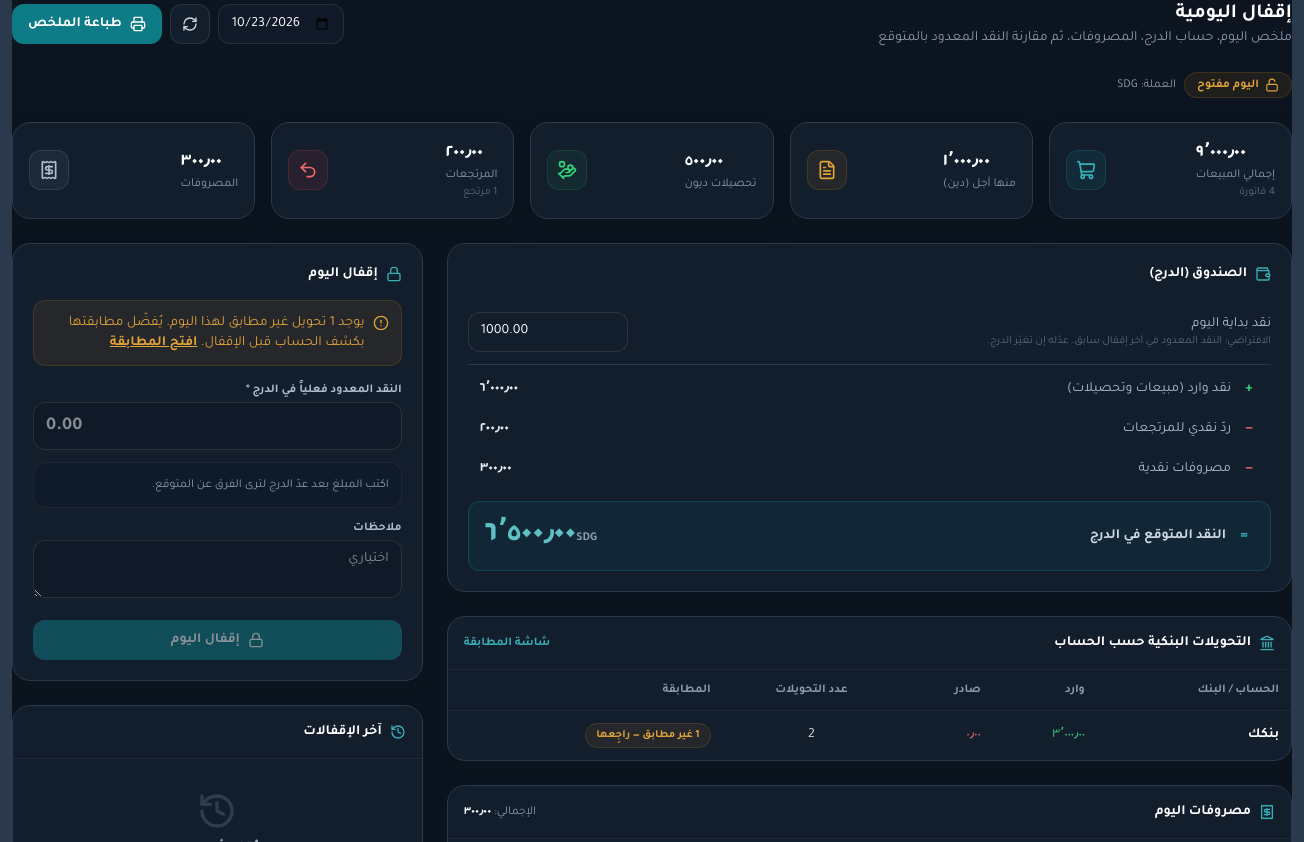
Test case: صفحة إقفال اليومية › المدخل غير الصالح لنقد البداية لا يُرسل للخادم ويمنع الإقفال
The image size is (1304, 842).
Replace the text in the field labelled "نقد بداية اليوم" with "abc" at (548,332), box [468,312,628,352]
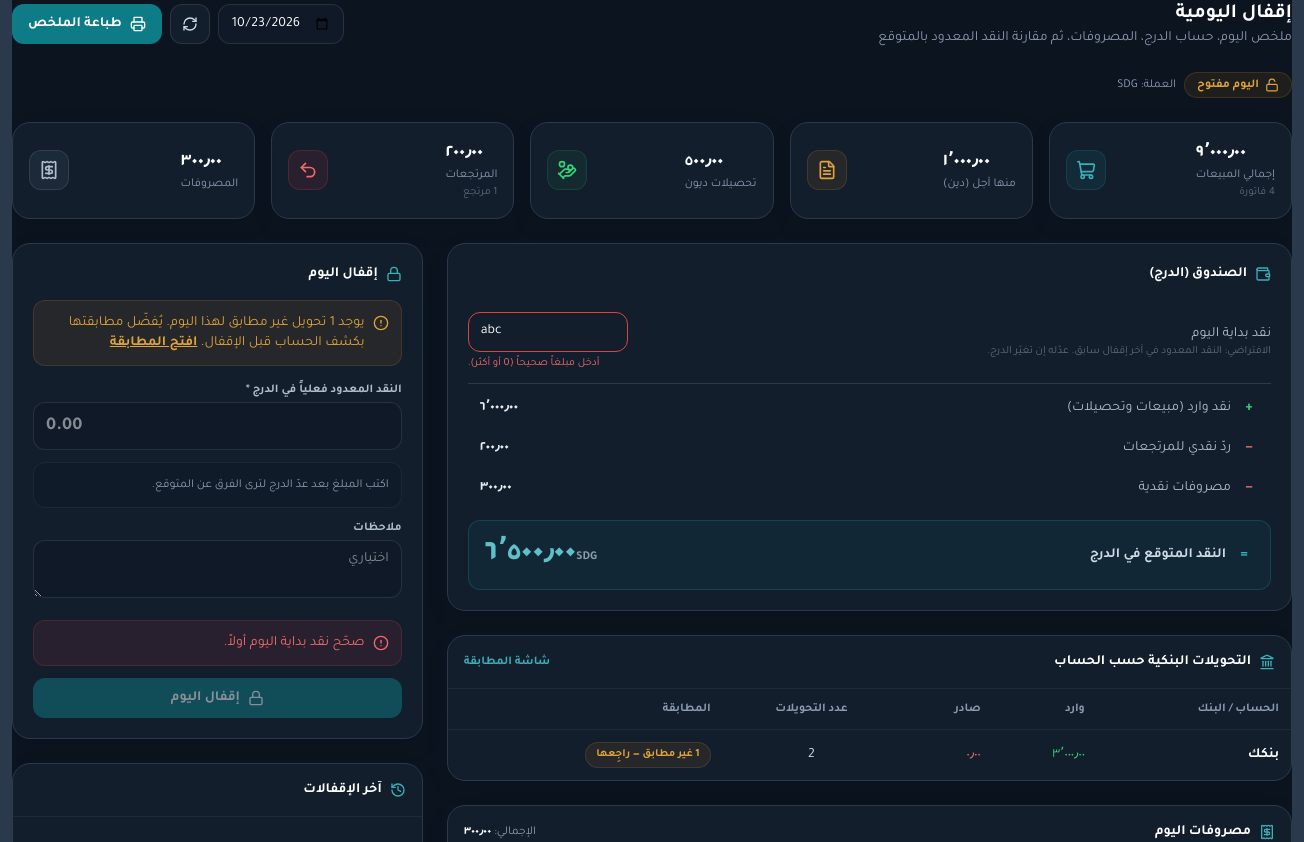
Result: the text "صحّح نقد بداية اليوم أولاً." is shown at [224,636,365,650]
